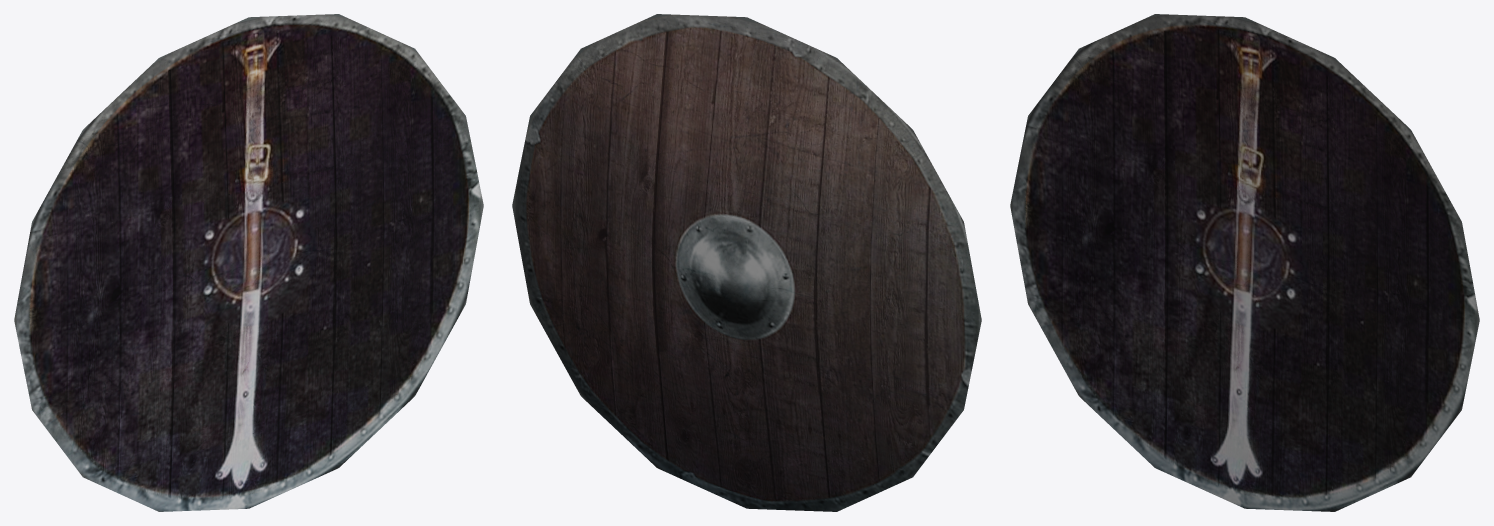
File: Roundshield_LOD03.fbx
3 views of the same model, side by side, from view 1: azimuth 30°, elevation 25°; view 2: azimuth 150°, elevation 25°; view 3: azimuth 330°, elevation 25° (orthographic).
Parts seen in each view (by area): view 1: Mesh Object; view 2: Mesh Object; view 3: Mesh Object.
Part boxes in pixels (<box>): Mesh Object: <box>14,14,483,511</box>; Mesh Object: <box>512,14,981,511</box>; Mesh Object: <box>1010,14,1479,511</box>.
Bounding box in the file's own units: 1 × 1 × 0.0978.
